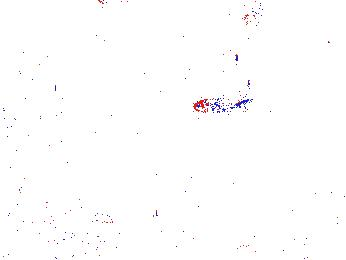X-ray fish: (46, 202, 109, 235), (1, 73, 39, 111)
red belly glassfish: (193, 96, 246, 116), (243, 1, 264, 27)
redtail glassfish: (129, 62, 196, 95)
